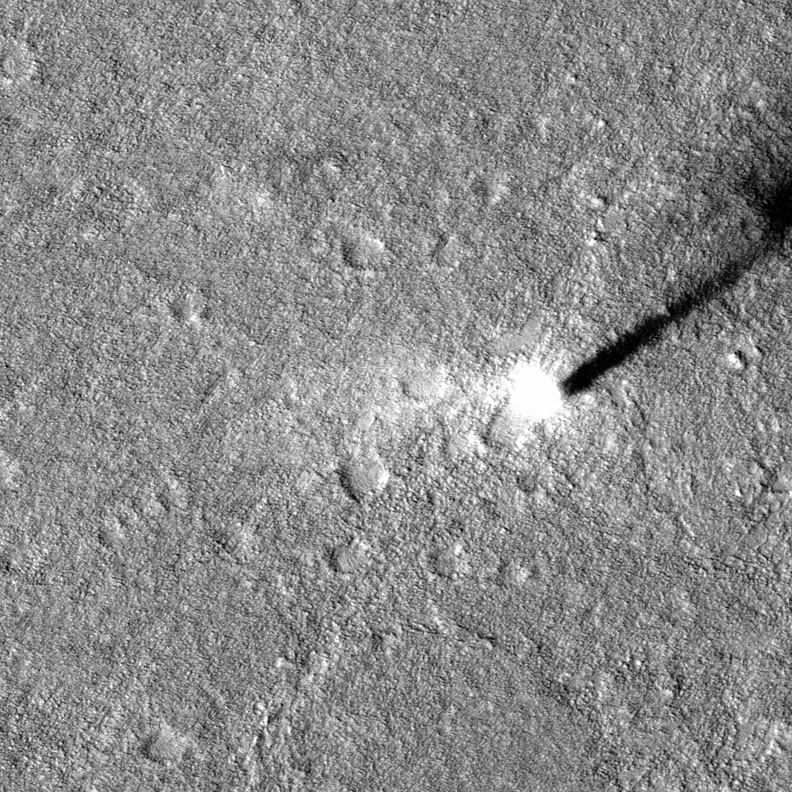dust_devil: (499, 150, 792, 426)
